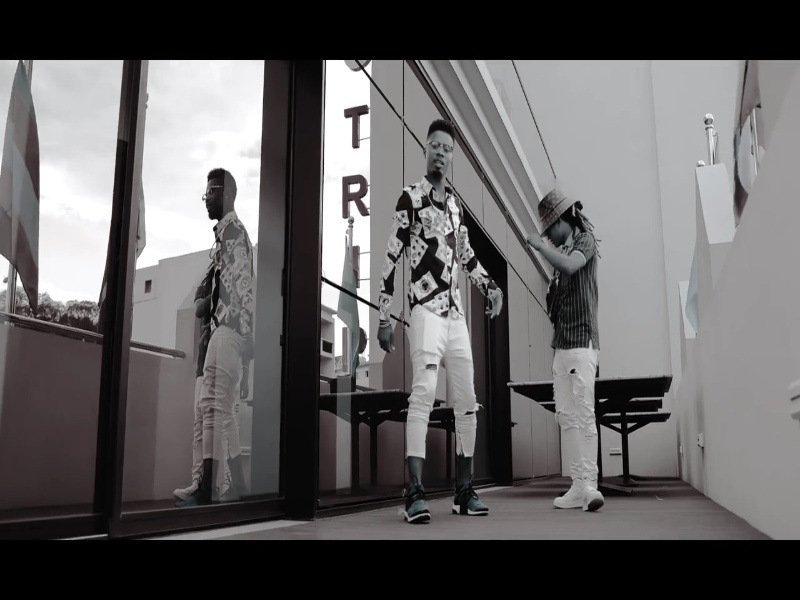TsisyArotava: (415, 117, 467, 197), (532, 194, 585, 260)
